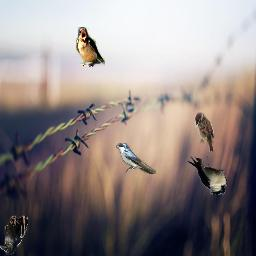Crow: (0, 215, 28, 255)
Sparrow: (195, 112, 214, 152)
Swallow: (187, 156, 227, 195), (116, 143, 156, 174), (76, 27, 105, 67)
